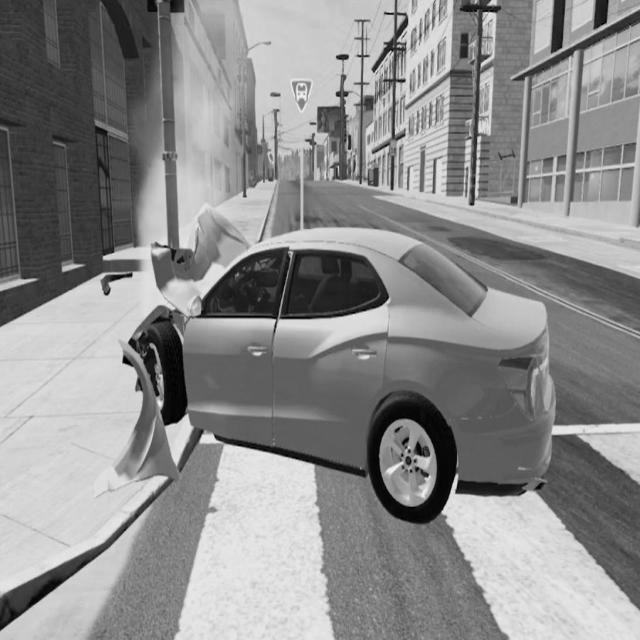accident: (119, 212, 561, 528)
